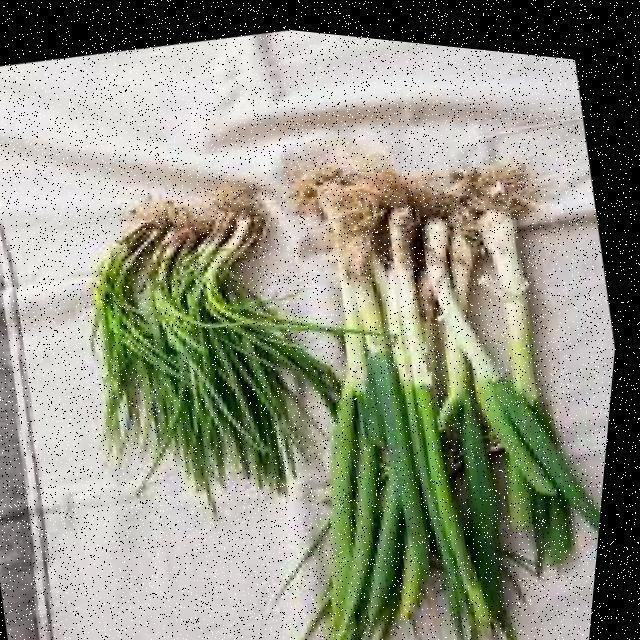green_onion: (303, 181, 393, 640), (395, 265, 484, 640), (479, 171, 554, 563)
